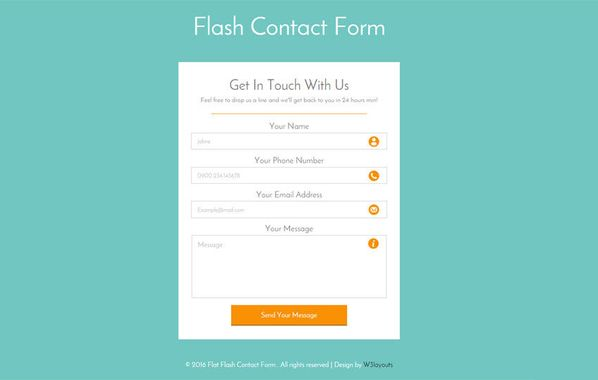_form_: (83, 1, 500, 380)
button: (229, 303, 348, 327)
field: (190, 233, 389, 301), (189, 165, 389, 186), (189, 131, 388, 152), (189, 199, 388, 220)
field_with_label: (187, 223, 392, 303), (187, 120, 390, 154), (186, 189, 390, 222), (187, 155, 391, 187)
